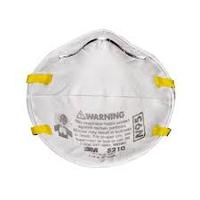flu mask: (22, 26, 182, 170)
